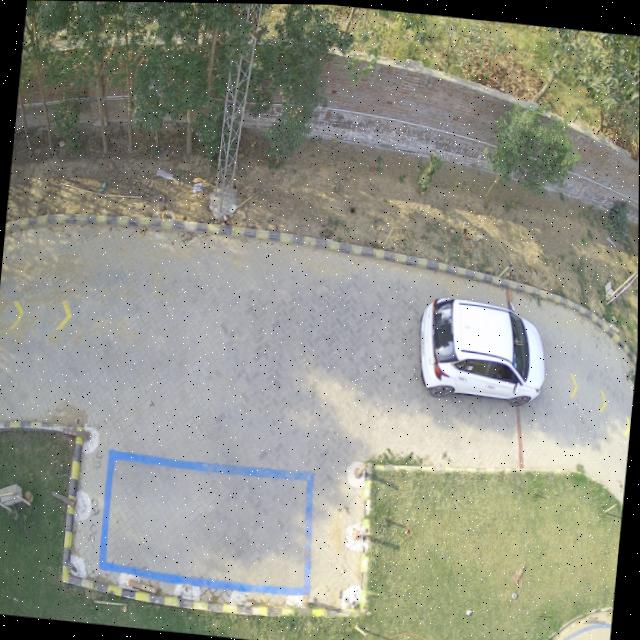car: (420, 295, 546, 405)
